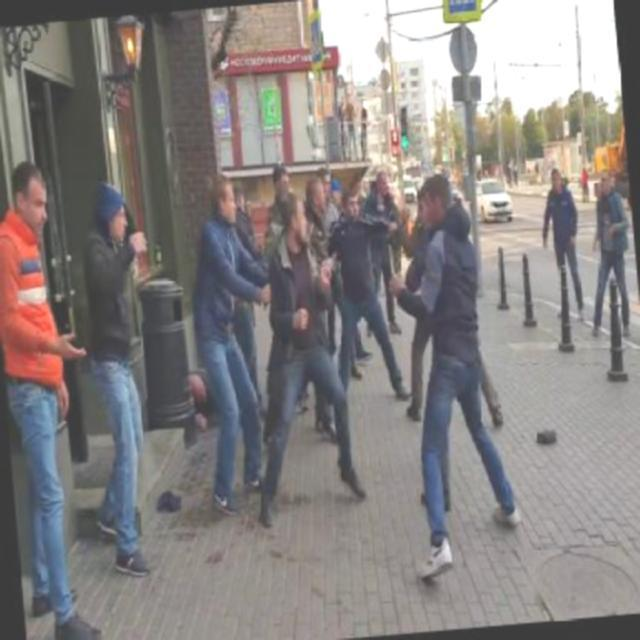fight: (242, 190, 366, 510), (324, 184, 434, 408)
non-fight: (0, 154, 105, 638), (73, 180, 161, 572), (186, 163, 274, 503), (582, 164, 636, 342), (542, 163, 587, 324)
